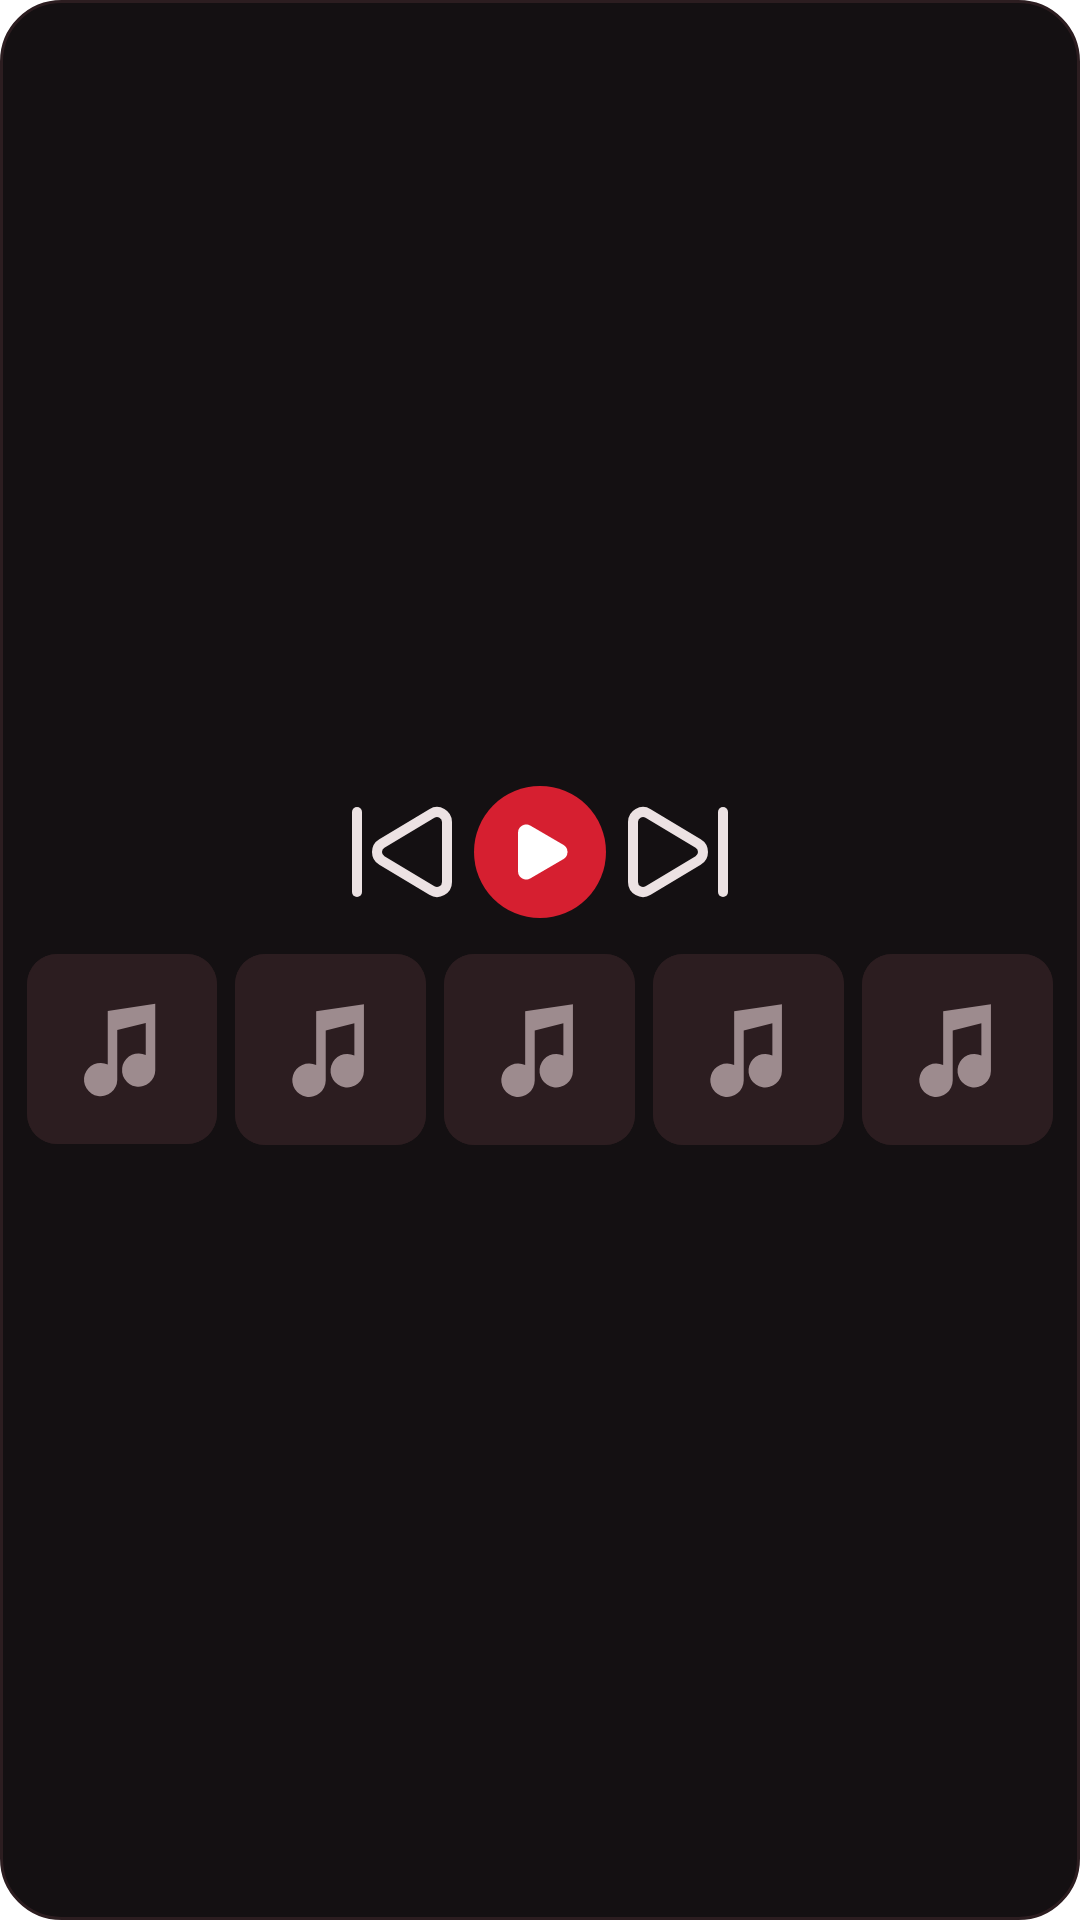

Icons on this 1080 x 1920 Android screen, each with its box as (x1, y1, x2, y2):
Anterior: (352, 806, 452, 898)
Próxima: (628, 806, 728, 898)
Tocar ou pausar: (474, 786, 606, 918)
